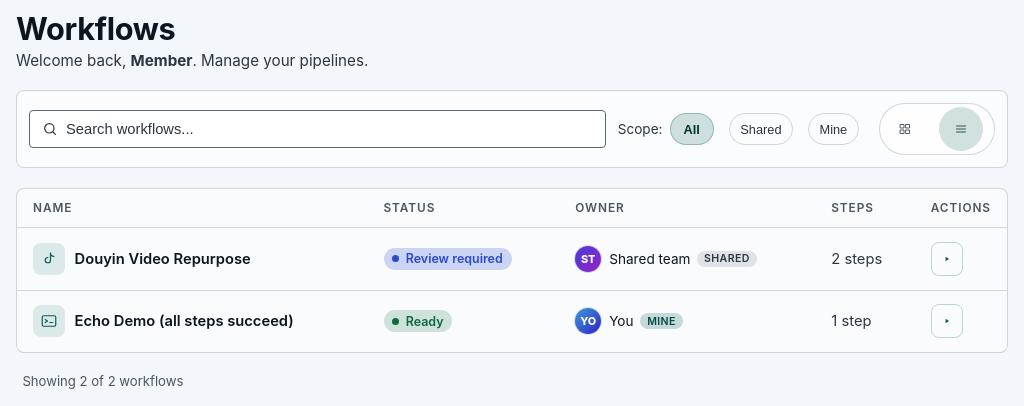
Test case: WorkflowsListPage › scopes the list with pressed toggle buttons instead of tabs
Check: the link "Echo Demo (all steps succeed)" is shown, box [75, 312, 294, 330]
Step 1. Click the button "Mine" → x=833, y=129, box [808, 113, 859, 145]
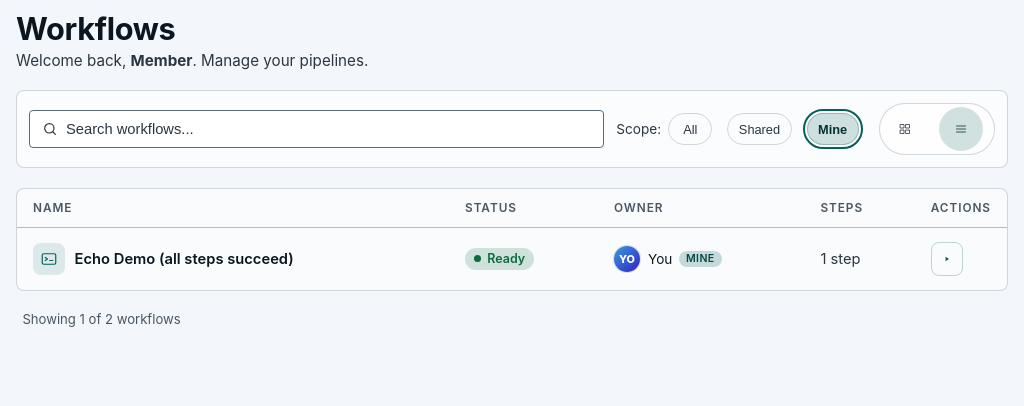
Check: the link "Douyin Video Repurpose" is gone
